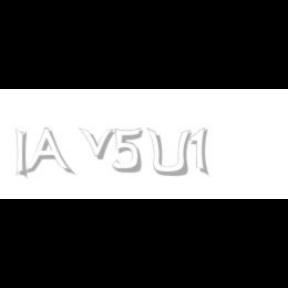1: (187, 128, 209, 176)
5: (112, 128, 142, 174)
A: (24, 128, 72, 176)
U: (146, 128, 190, 178)
l: (15, 128, 31, 180)
v: (79, 128, 119, 160)
